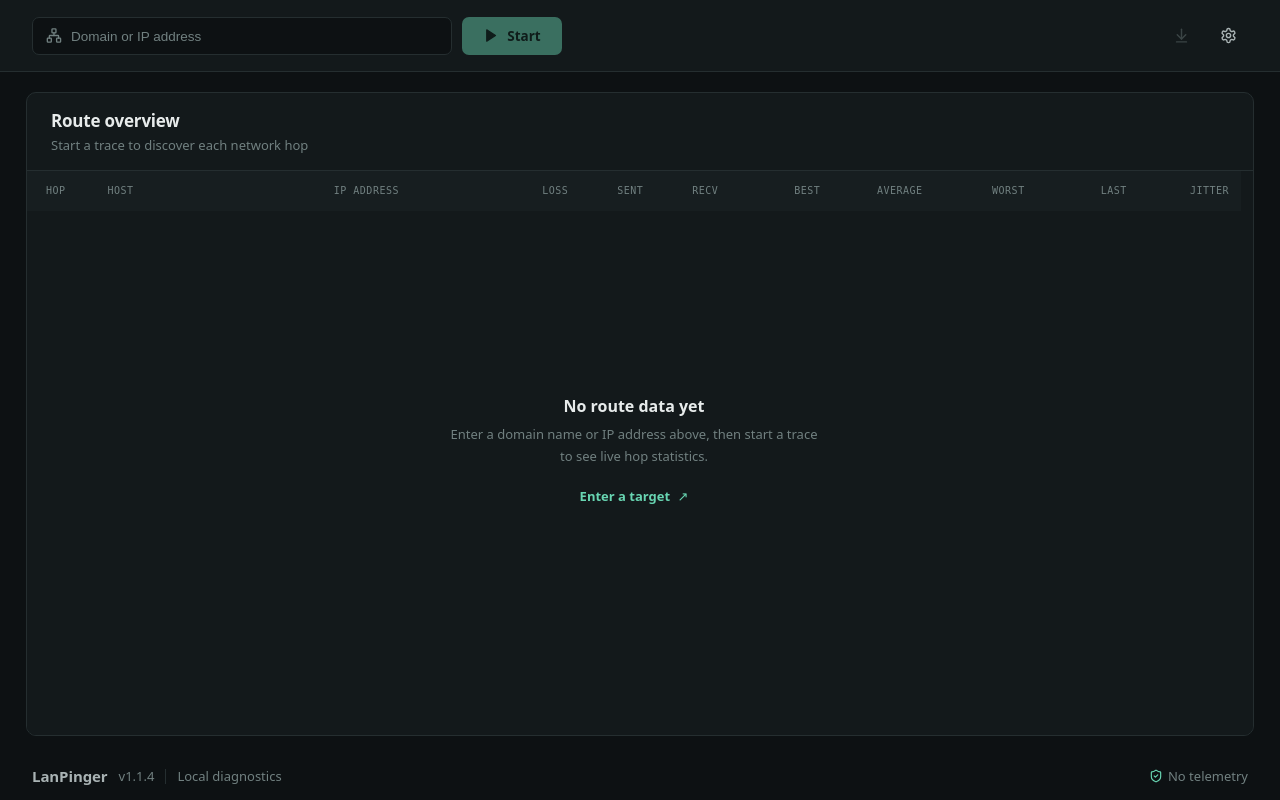
Test case: LanPinger interface › shows Rust validation and network errors without filling the table
In the field named "Host name or IP address": (254, 36) [71,28,438,44], type "bad;host"
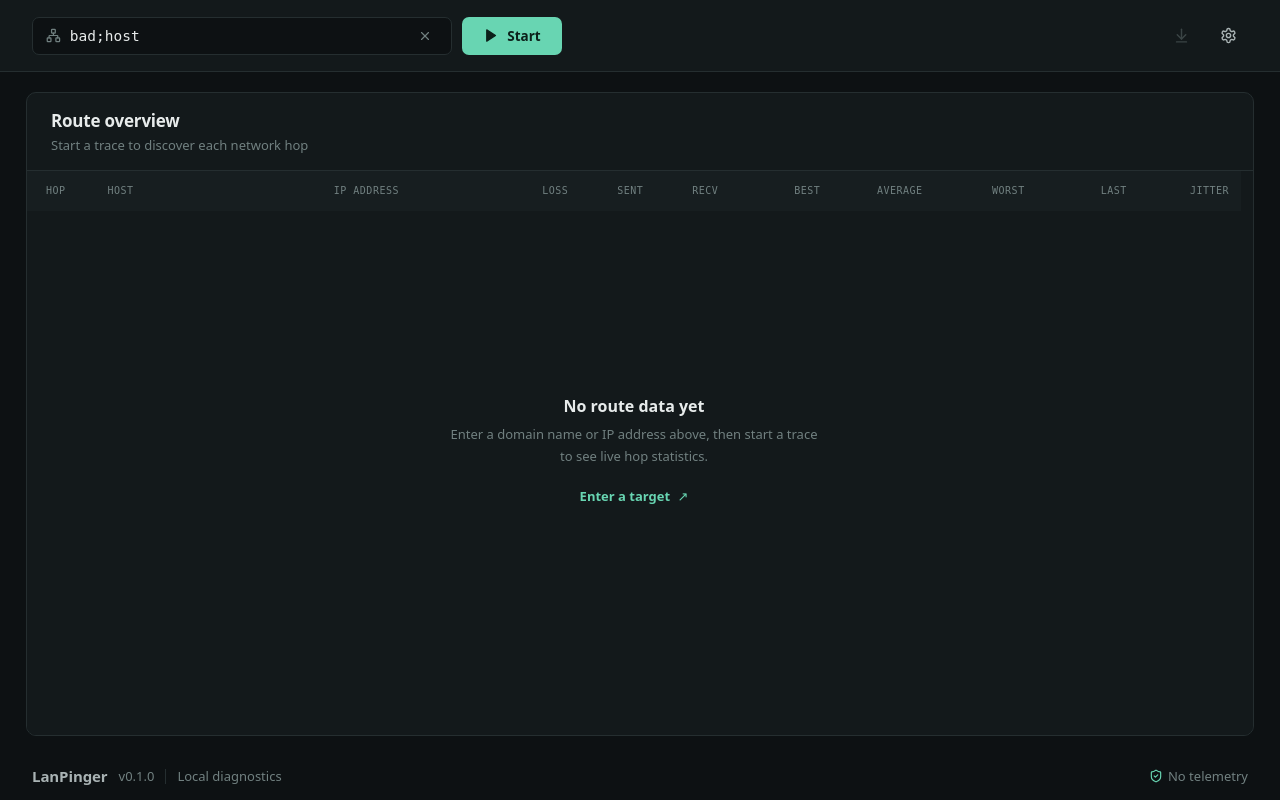
Click the button "Start": (512, 36) [462,16,562,54]
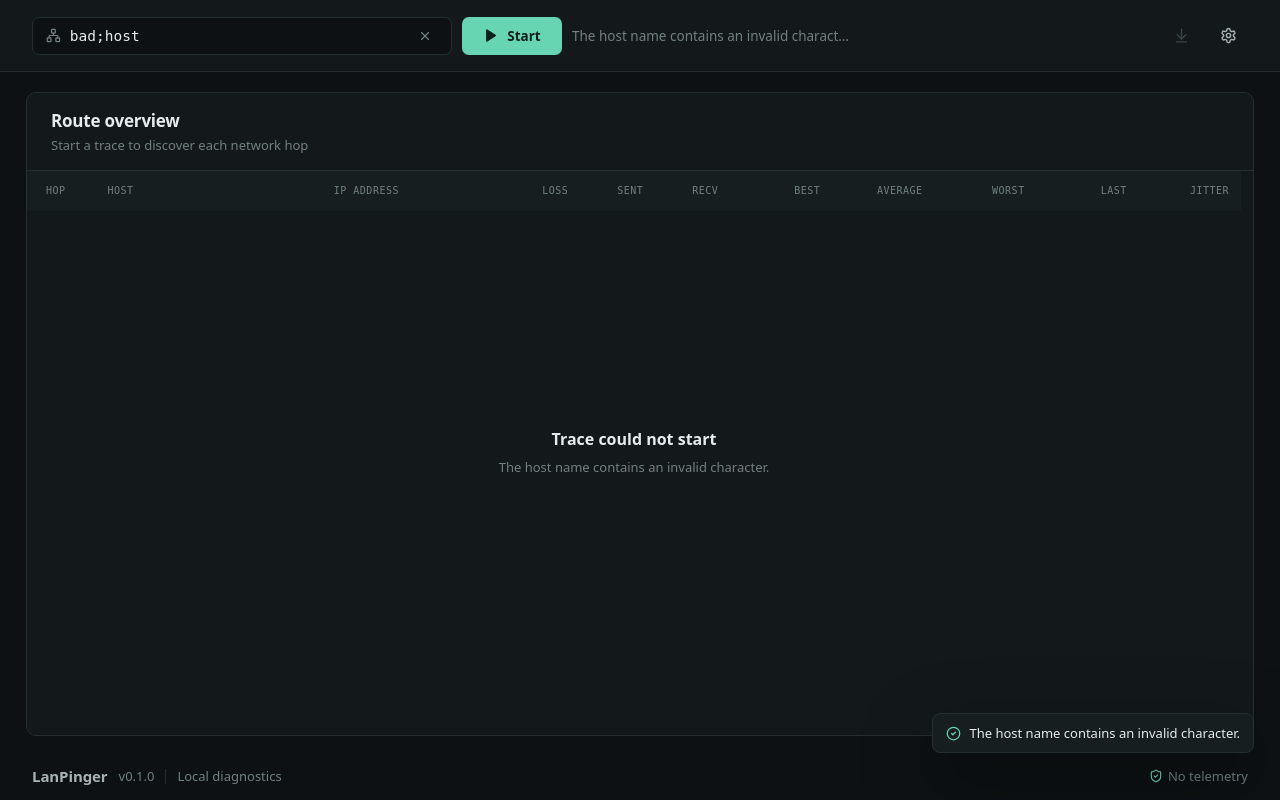
Expected: the heading "Trace could not start" is shown, [552,428,716,450]
Expected: the 1st text "The host name contains an invalid character." is shown, [572,26,852,44]
Expected: the heading "No route data yet" is gone
